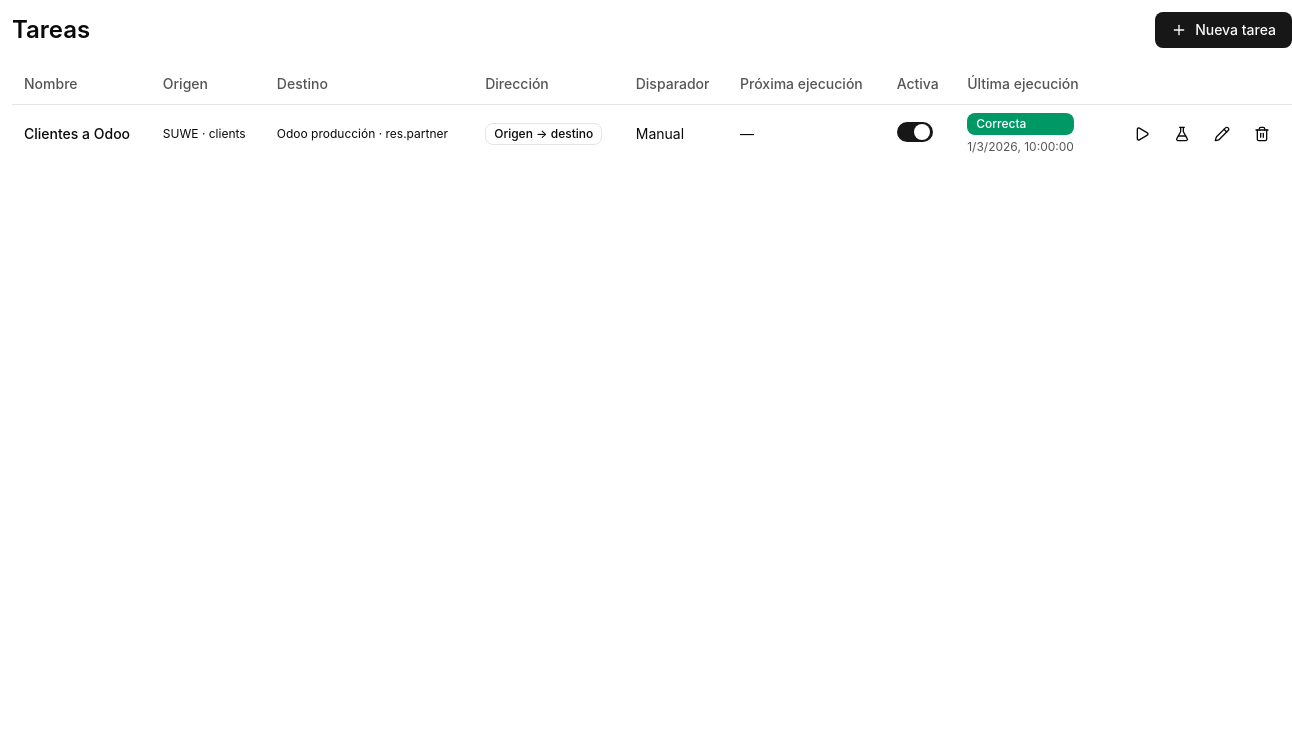
it: JobsPage › reports a rate limited dry run with the delay
Click the button named "Simular Clientes a Odoo" at (1182, 134), box [1164,116,1200,152]
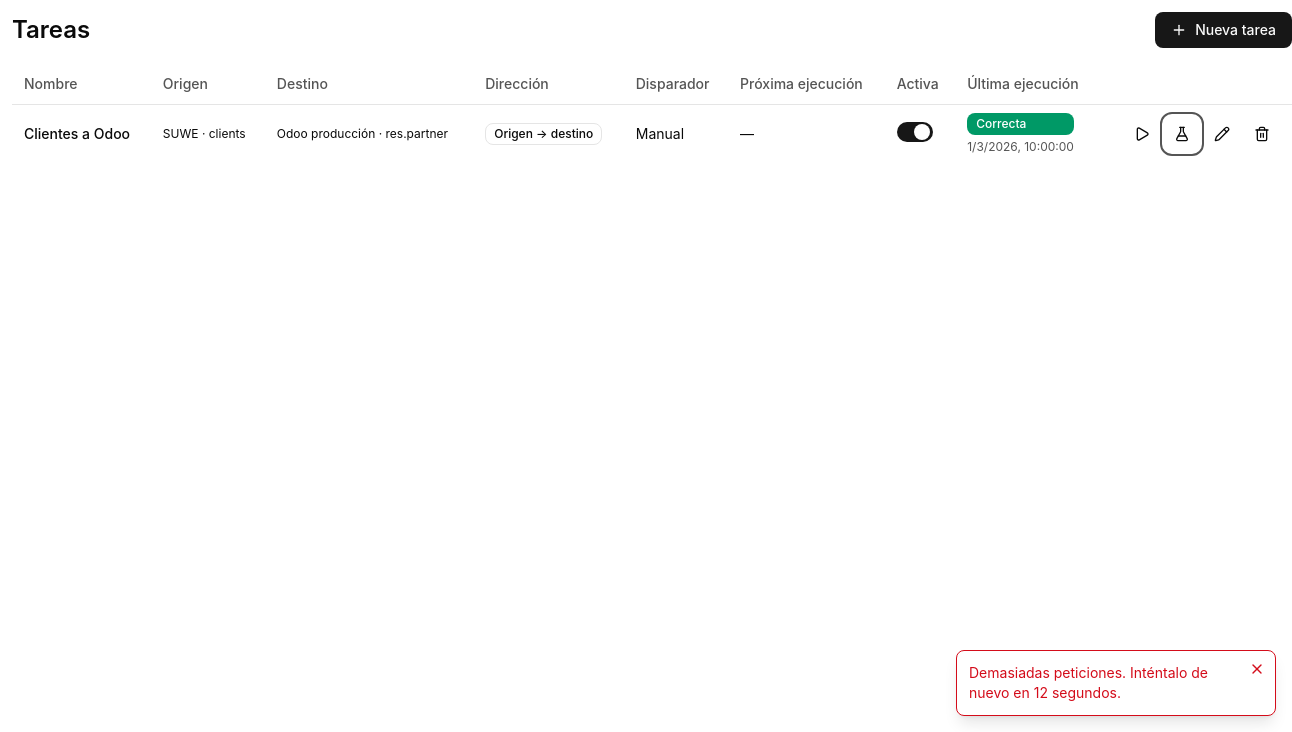
Expected: the message shows "12 segundos", [969,664,1208,701]
